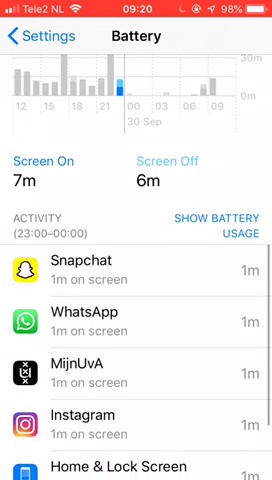activity: (7, 211, 117, 241)
app: (8, 251, 264, 289), (6, 302, 262, 340), (9, 352, 265, 390), (7, 403, 263, 441)
